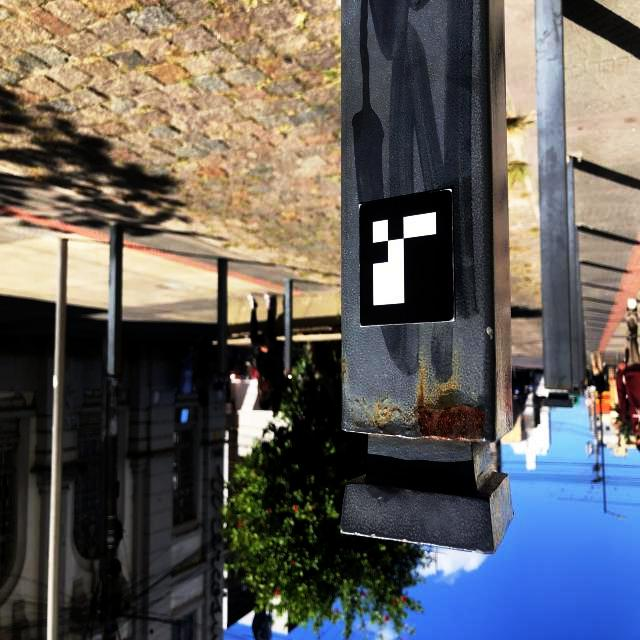Corrosion: (381, 404, 486, 442), (375, 405, 400, 423), (341, 358, 345, 380)
